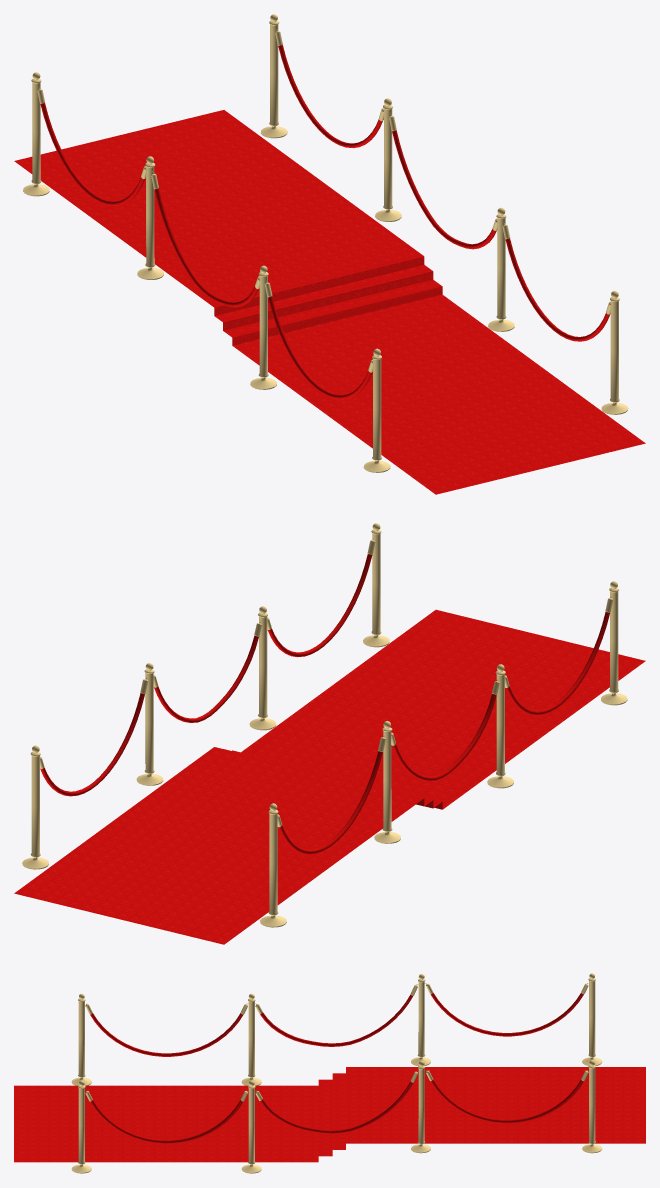
Rendered from Carpet.gltf.
3 views of the same model, one above another, from view 1: azimuth 30°, elevation 25°; view 2: azimuth 150°, elevation 25°; view 3: azimuth 270°, elevation 25° (orthographic). The views are drawn at different scales.
Parts seen in each view (by area): view 1: Plane001; view 2: Plane001; view 3: Plane001.
Part boxes in pixels (x1,y1,x2,y2): Plane001: (14,14,645,494); Plane001: (14,523,645,944); Plane001: (14,973,645,1173).
Bounding box in the file's own units: 0.7147 × 0.3798 × 2.
Materials: 1 (1 with a texture image).
